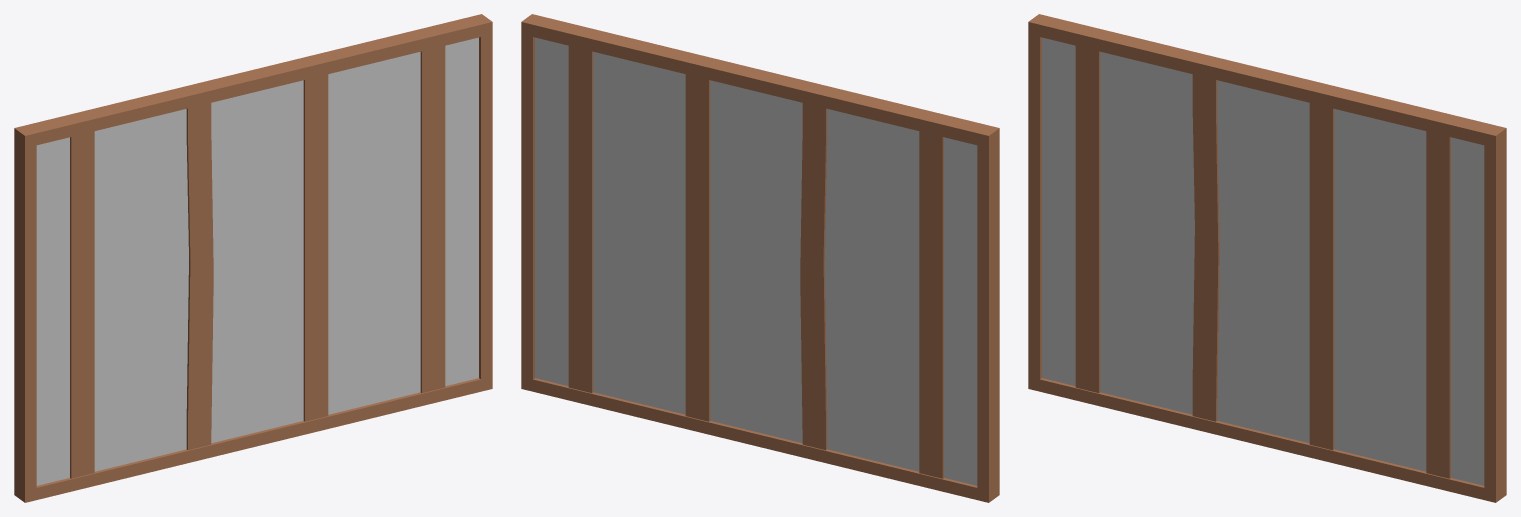
Rendered from Destructable_Wall.fbx.
The picture shows the model from 3 angles, left to right: view 1: azimuth 30°, elevation 25°; view 2: azimuth 150°, elevation 25°; view 3: azimuth 330°, elevation 25°; orthographic projection.
Visible parts, largest first — view 1: FrameOuter.001, InnerPiece.000, InnerPiece.001, InnerPiece.018, InnerPiece.020, InnerPiece.019, InnerPiece.012, InnerPiece.013, InnerPiece.004, InnerPiece.007, InnerPiece.008, Plank.007 (+18 smaller); view 2: FrameOuter.001, InnerPiece.000, InnerPiece.001, InnerPiece.018, InnerPiece.020, InnerPiece.019, InnerPiece.012, InnerPiece.013, InnerPiece.004, InnerPiece.007, InnerPiece.008, Plank.007 (+18 smaller); view 3: FrameOuter.001, InnerPiece.000, InnerPiece.001, InnerPiece.018, InnerPiece.020, InnerPiece.019, InnerPiece.012, InnerPiece.013, InnerPiece.004, InnerPiece.007, InnerPiece.008, Plank.007 (+18 smaller).
Part boxes in pixels (<box>): FrameOuter.001: <box>14,14,492,502</box>; InnerPiece.000: <box>211,63,380,177</box>; InnerPiece.001: <box>50,101,228,223</box>; InnerPiece.018: <box>266,251,371,359</box>; InnerPiece.020: <box>369,259,461,401</box>; InnerPiece.019: <box>238,354,373,432</box>; InnerPiece.012: <box>251,162,365,283</box>; InnerPiece.013: <box>328,63,469,149</box>; InnerPiece.004: <box>64,336,181,454</box>; InnerPiece.007: <box>149,284,290,379</box>; InnerPiece.008: <box>149,242,290,347</box>; Plank.007: <box>420,56,445,243</box>; FrameOuter.001: <box>521,14,999,502</box>; InnerPiece.000: <box>633,63,802,177</box>; InnerPiece.001: <box>785,101,963,223</box>; InnerPiece.018: <box>642,251,747,359</box>; InnerPiece.020: <box>552,259,644,401</box>; InnerPiece.019: <box>640,354,775,432</box>; InnerPiece.012: <box>648,162,762,283</box>; InnerPiece.013: <box>544,63,685,149</box>; InnerPiece.004: <box>832,336,949,454</box>; InnerPiece.007: <box>723,284,864,379</box>; InnerPiece.008: <box>723,242,864,347</box>; Plank.007: <box>568,56,593,243</box>; FrameOuter.001: <box>1028,14,1506,502</box>; InnerPiece.000: <box>1217,87,1388,191</box>; InnerPiece.001: <box>1057,77,1235,171</box>; InnerPiece.018: <box>1273,301,1378,414</box>; InnerPiece.020: <box>1376,353,1468,465</box>; InnerPiece.019: <box>1245,359,1380,458</box>; InnerPiece.012: <box>1259,185,1372,303</box>; InnerPiece.013: <box>1334,124,1476,241</box>; InnerPiece.004: <box>1071,256,1189,360</box>; InnerPiece.007: <box>1156,295,1298,358</box>; InnerPiece.008: <box>1156,224,1298,300</box>; Plank.007: <box>1426,146,1450,335</box>.
Size of the model in its own units: 400 by 300 by 16.
